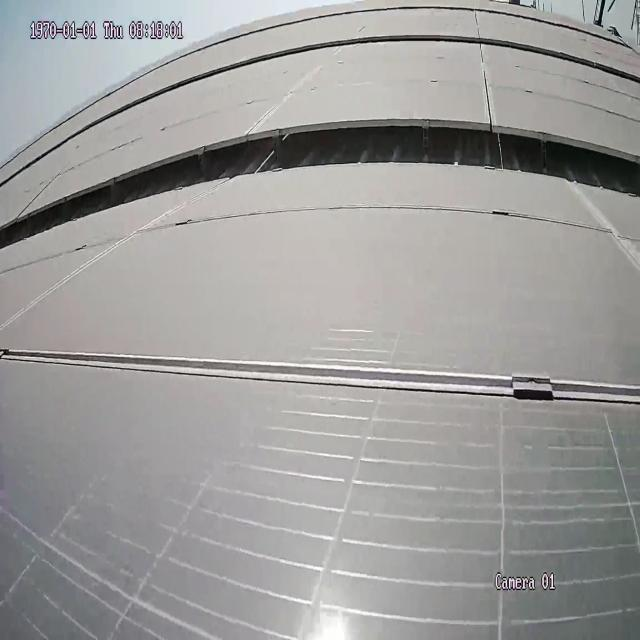interior panel: (0, 343, 639, 406)
outher panel: (2, 115, 640, 252)
